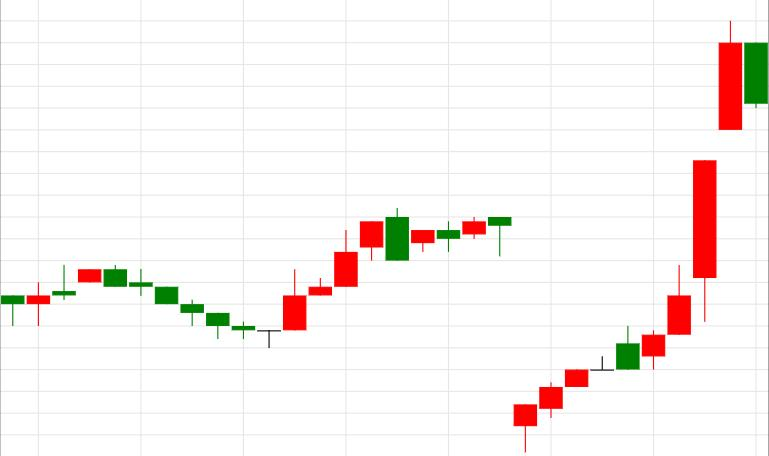bearish_engulfing_fall: (257, 207, 408, 347)
